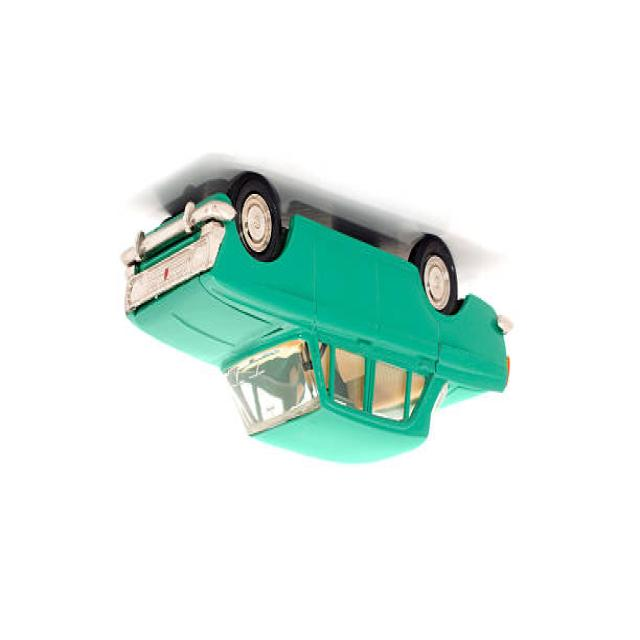Car: (120, 170, 510, 468)
